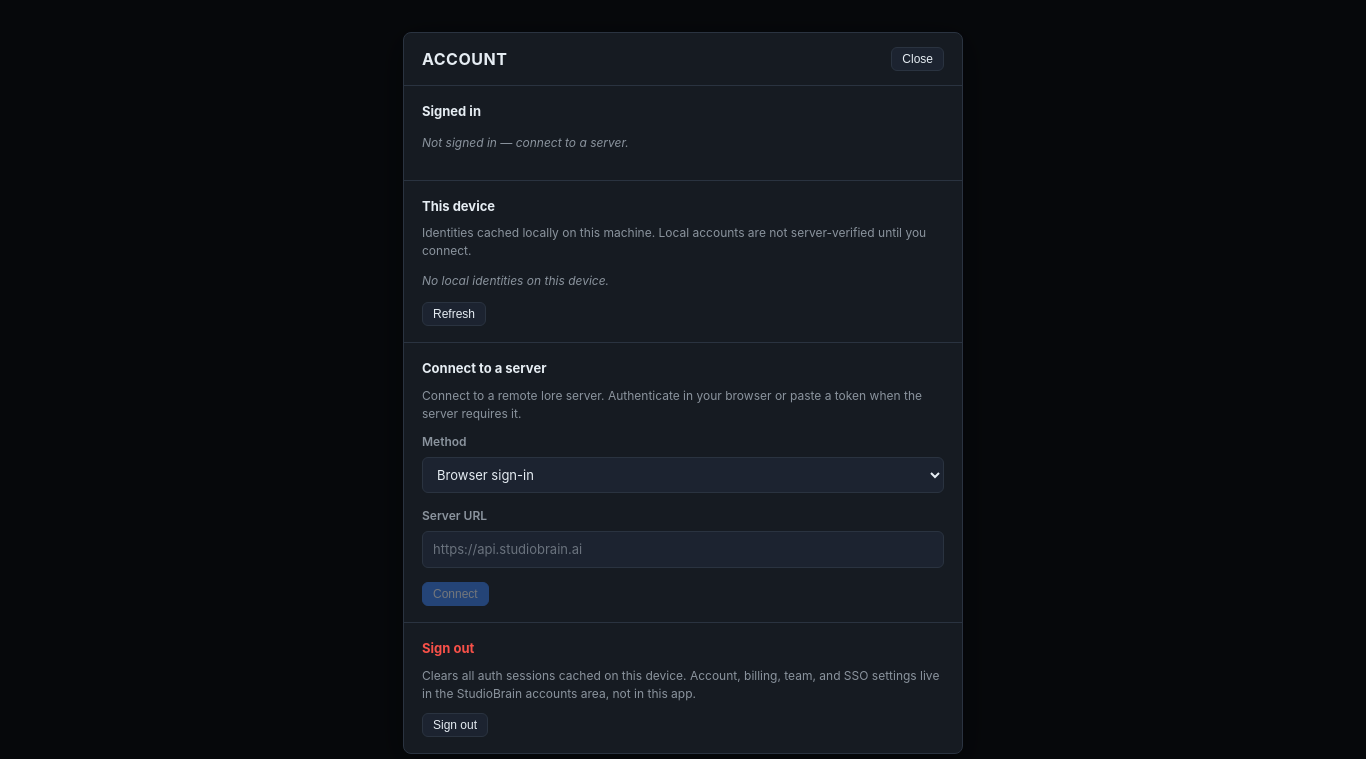
Test case: auth-disabled connection from the account panel (#404) › rejects the bare NotSupported prefix without the auth operation
expect the text "Not signed in — connect to a server." is shown: met, box [422,134,629,150]
Type "lore://192.0.2.10/repo" into the field labelled "Server URL" at (683, 549), box [422,530,944,568]
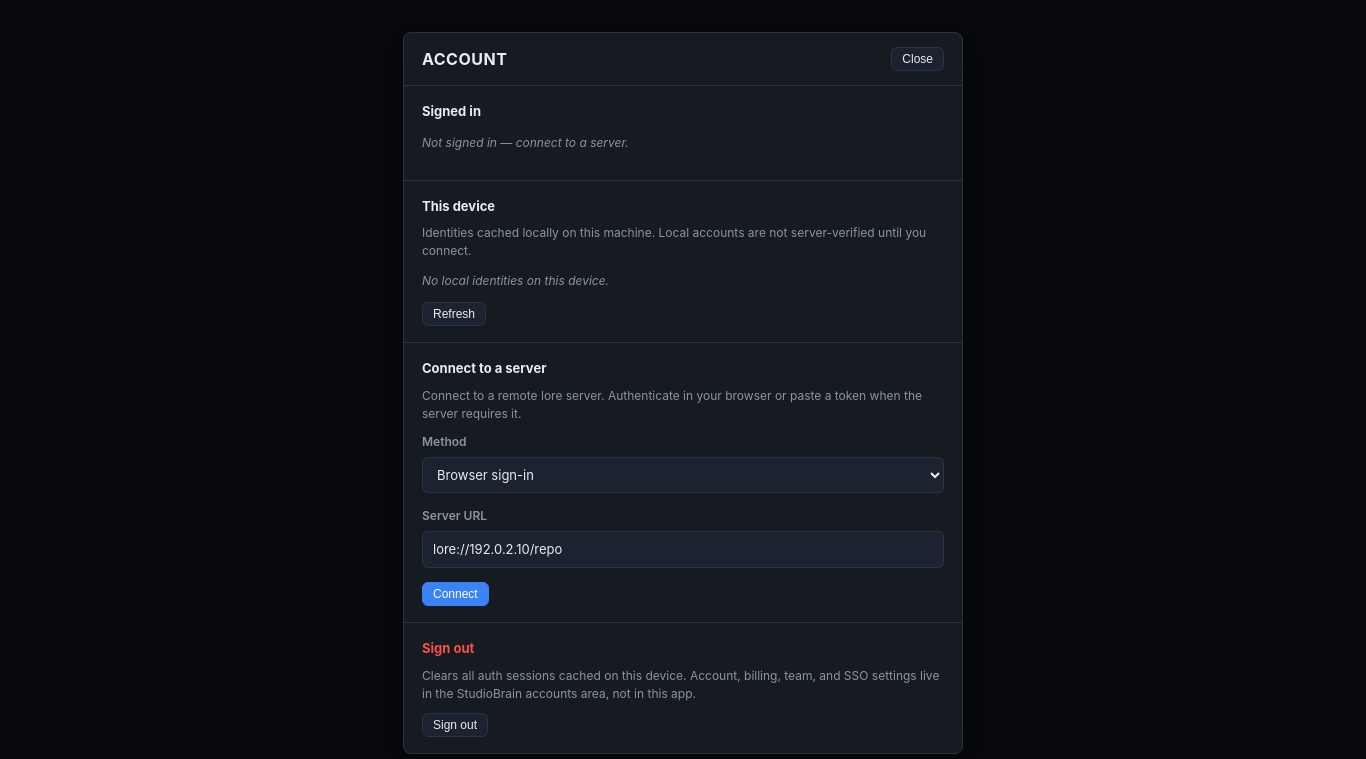
Click the button "Connect" at (455, 594), box [422,582,489,606]
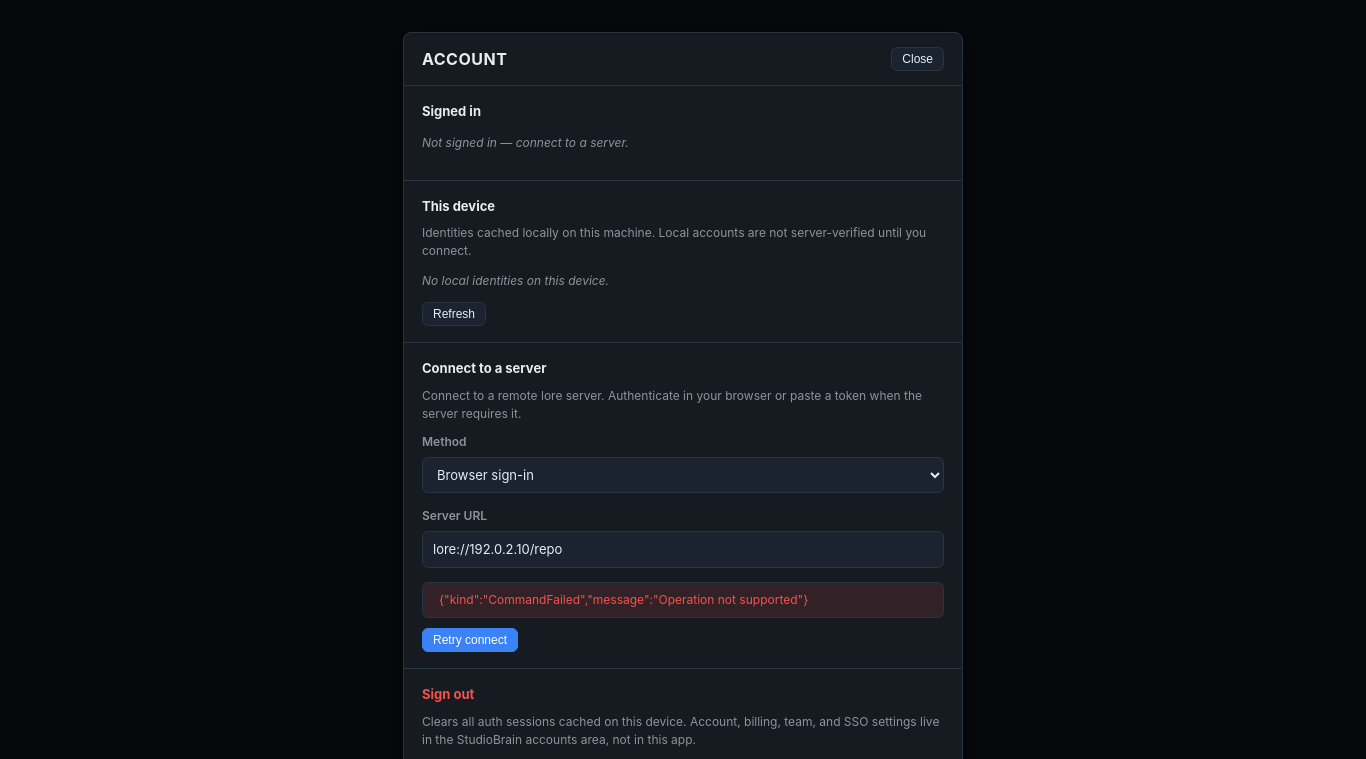
expect the text "{\"kind\":\"CommandFailed\",\"message\":\"Operation not supported\"}" is shown: met, box [422,582,944,618]
